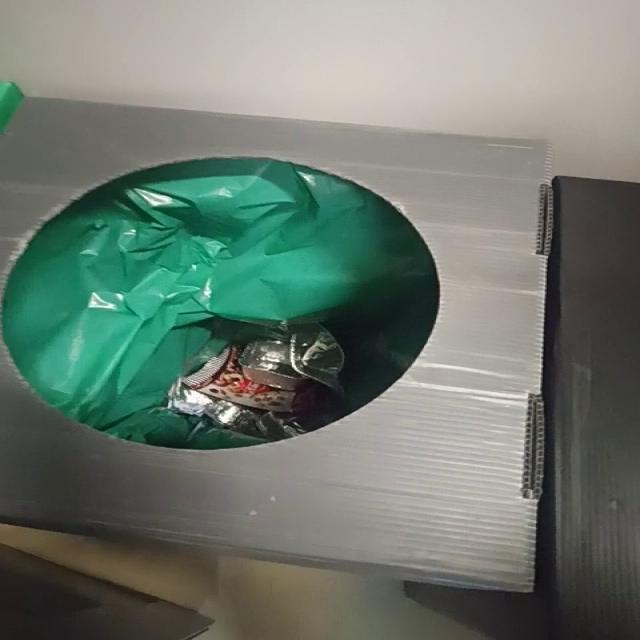bin: (1, 98, 552, 592)
metal: (239, 340, 307, 392)
